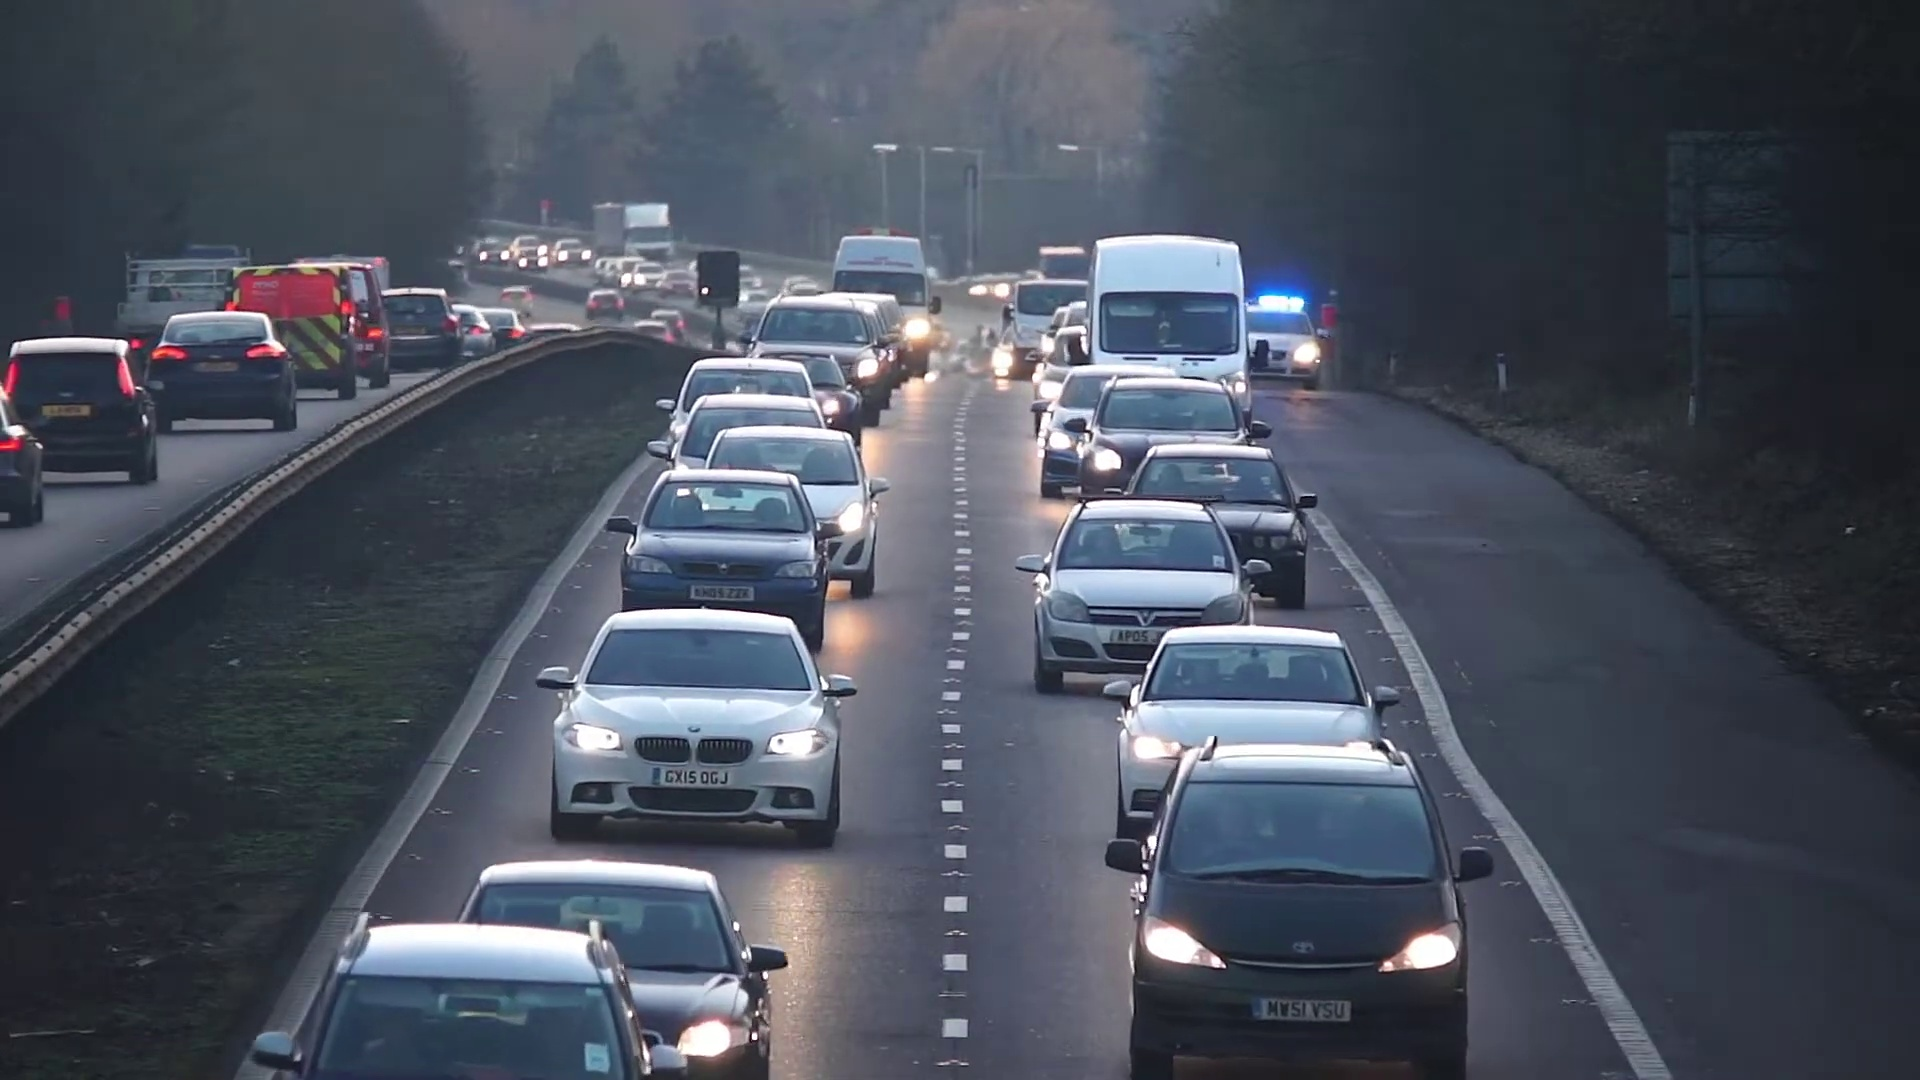license_plate: (1252, 997, 1351, 1025), (650, 764, 738, 795), (687, 583, 759, 605), (1108, 626, 1154, 644)
